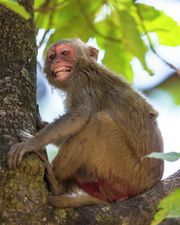monkey: (38, 28, 179, 223)
